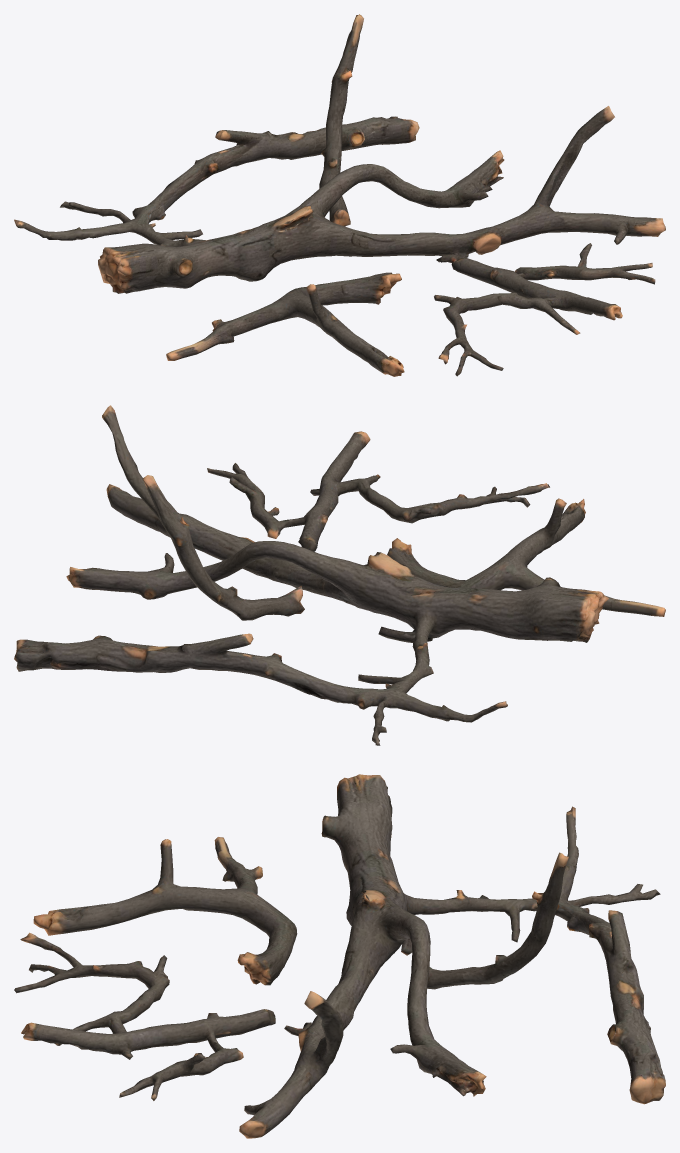
The model's file is Branches_1.fbx.
3 renders of one model, top to bottom at view 1: azimuth 30°, elevation 25°; view 2: azimuth 150°, elevation 25°; view 3: azimuth 270°, elevation 25°, orthographic. The views are drawn at different scales.
Parts seen in each view (by area): view 1: Mesh10; view 2: Mesh10; view 3: Mesh10.
Boxes of the visible parts, box(x1,y1,x2,y2) form: Mesh10: box(14, 14, 665, 376); Mesh10: box(14, 405, 665, 745); Mesh10: box(14, 774, 665, 1138).
Bounding box in the file's own units: 1.91 × 0.6226 × 1.81.
1 material, 1 textured.
